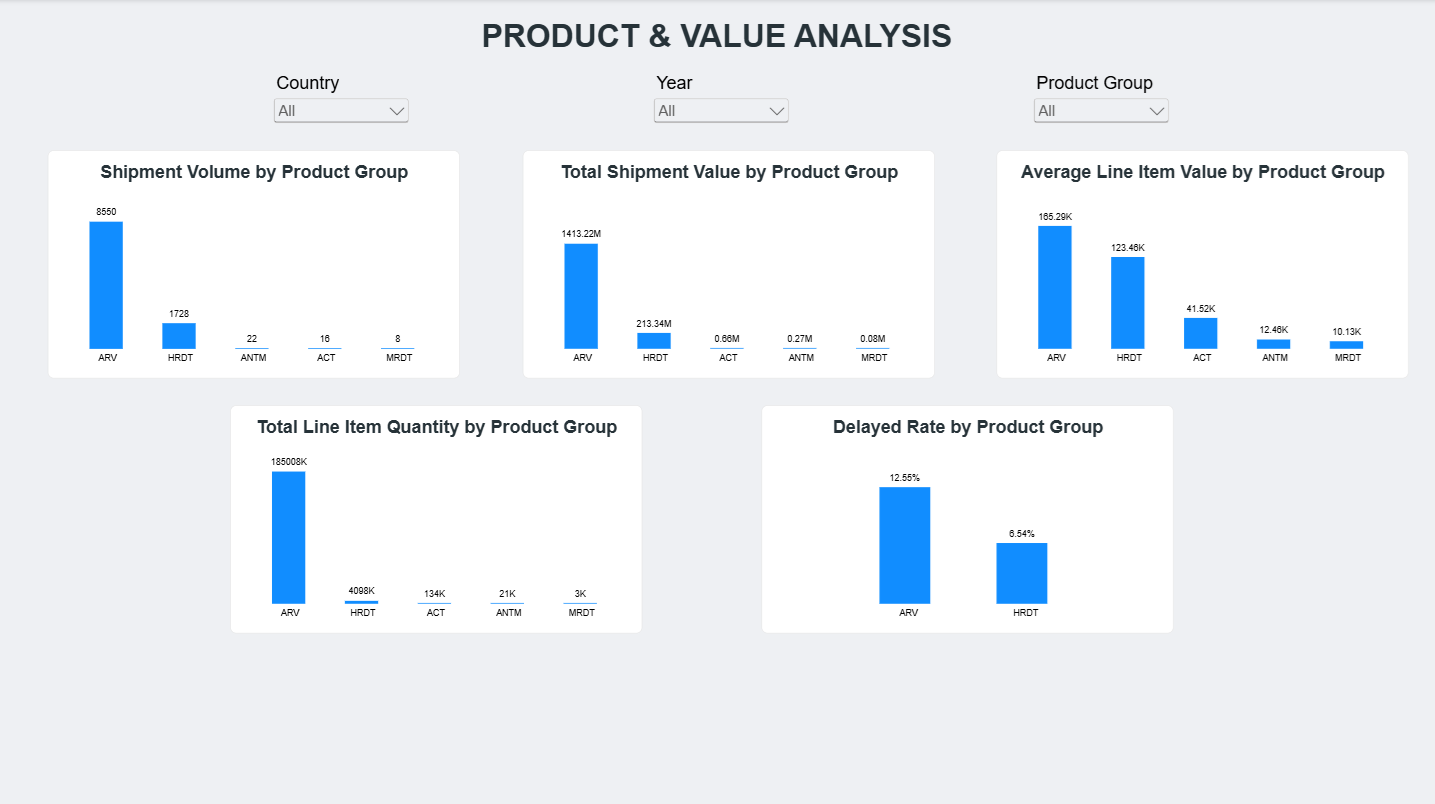

The page's visual inventory and layout, read from the dashboard file:
{"tool":"powerbi","page":{"name":"Page 2","canvas":[1920,1080],"ordinal":1},"visuals":[{"type":"textbox","box":[584.4,25.5,748.9,51.1],"z":0},{"type":"slicer","fields":{"Values":["SCMS_Delivery_History_Cleaned.Country"]},"box":[362.7,98.5,190,82.2],"z":1000},{"type":"slicer","fields":{"Values":["SCMS_Delivery_History_Cleaned.Delivered to Client Date.Variation.Date Hierarchy.Year"]},"box":[869.8,98.5,190,82],"z":2000},{"type":"slicer","fields":{"Values":["SCMS_Delivery_History_Cleaned.Product Group"]},"box":[1376.9,98.5,190,82],"z":3000},{"type":"clusteredColumnChart","title":"Shipment Volume by Product Group","fields":{"Category":["SCMS_Delivery_History_Cleaned.Product Group"],"Y":["CountNonNull(SCMS_Delivery_History_Cleaned.ID)"]},"box":[64.9,201.3,550,305.1],"z":4000},{"type":"clusteredColumnChart","title":"Total Shipment Value by Product Group","fields":{"Category":["SCMS_Delivery_History_Cleaned.Product Group"],"Y":["Sum(SCMS_Delivery_History_Cleaned.Line Item Value)"]},"box":[699,201.3,550,305],"z":5000},{"type":"clusteredColumnChart","title":"Average Line Item Value by Product Group","fields":{"Y":["Avg(SCMS_Delivery_History_Cleaned.Line Item Value)"],"Category":["SCMS_Delivery_History_Cleaned.Product Group"]},"box":[1333.1,201.3,550,305],"z":6000},{"type":"clusteredColumnChart","title":"Total Line Item Quantity by Product Group","fields":{"Category":["SCMS_Delivery_History_Cleaned.Product Group"],"Y":["Sum(SCMS_Delivery_History_Cleaned.Line Item Quantity)"]},"box":[309.7,541.9,550,305],"z":7000},{"type":"clusteredColumnChart","title":"Delayed Rate by Product Group","fields":{"Category":["SCMS_Delivery_History_Cleaned.Product Group"],"Y":["Measures .Delayed Rate %"]},"box":[1018.1,541.9,550,305],"z":8000}]}

Visuals, with their boxes in screenshot pixels (x1, y1, x2, y2), scaled from the page's 1920x1080 canvas onto the 1435x804 screenshot:
textbox: <bbox>437, 19, 997, 57</bbox>
slicer - SCMS_Delivery_History_Cleaned.Country: <bbox>271, 73, 413, 135</bbox>
slicer - SCMS_Delivery_History_Cleaned.Delivered to Client Date.Variation.Date Hierarchy.Year: <bbox>650, 73, 792, 134</bbox>
slicer - SCMS_Delivery_History_Cleaned.Product Group: <bbox>1029, 73, 1171, 134</bbox>
"Shipment Volume by Product Group" clusteredColumnChart: <bbox>49, 150, 460, 377</bbox>
"Total Shipment Value by Product Group" clusteredColumnChart: <bbox>522, 150, 933, 377</bbox>
"Average Line Item Value by Product Group" clusteredColumnChart: <bbox>996, 150, 1407, 377</bbox>
"Total Line Item Quantity by Product Group" clusteredColumnChart: <bbox>231, 403, 643, 630</bbox>
"Delayed Rate by Product Group" clusteredColumnChart: <bbox>761, 403, 1172, 630</bbox>
